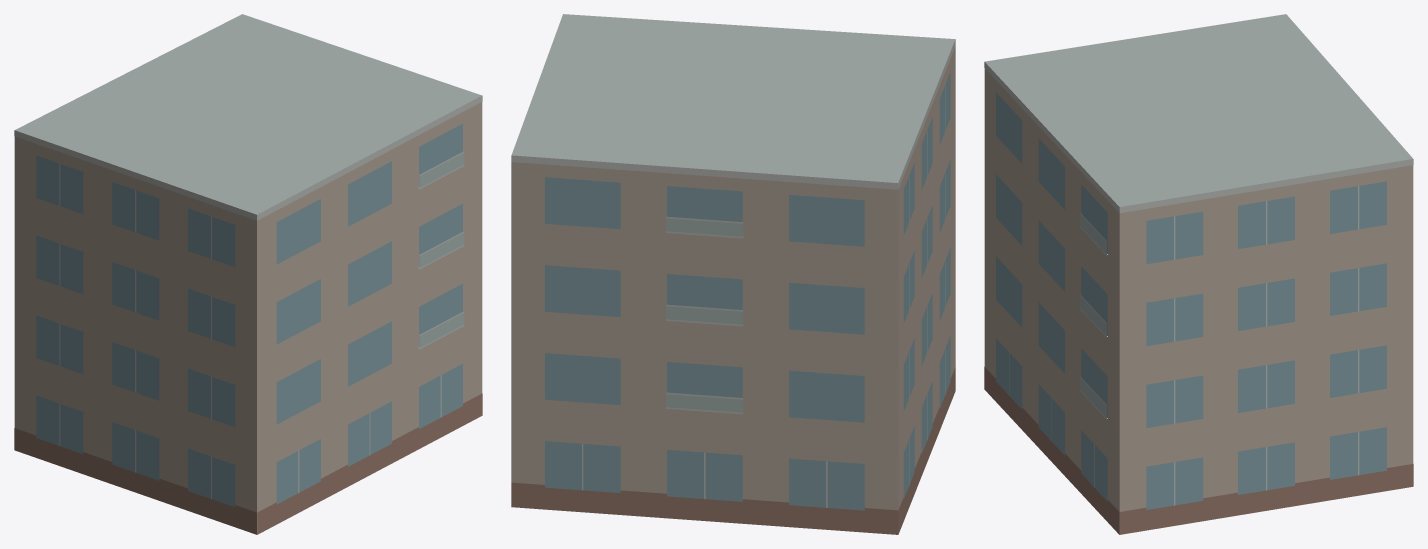
The model's file is survey-upis-32856629.glb.
The picture shows the model from 3 angles, left to right: view 1: azimuth 30°, elevation 25°; view 2: azimuth 150°, elevation 25°; view 3: azimuth 270°, elevation 25°; orthographic projection. The views are drawn at different scales.
Parts seen in each view (by area): view 1: survey-upis-32856629.tmp; view 2: survey-upis-32856629.tmp; view 3: survey-upis-32856629.tmp.
Boxes of the visible parts, x1=… form: survey-upis-32856629.tmp: x1=14, y1=14, x2=482, y2=534; survey-upis-32856629.tmp: x1=511, y1=14, x2=955, y2=534; survey-upis-32856629.tmp: x1=984, y1=14, x2=1413, y2=534.
Size of the model in its own units: 16.37 by 12.95 by 15.37.
